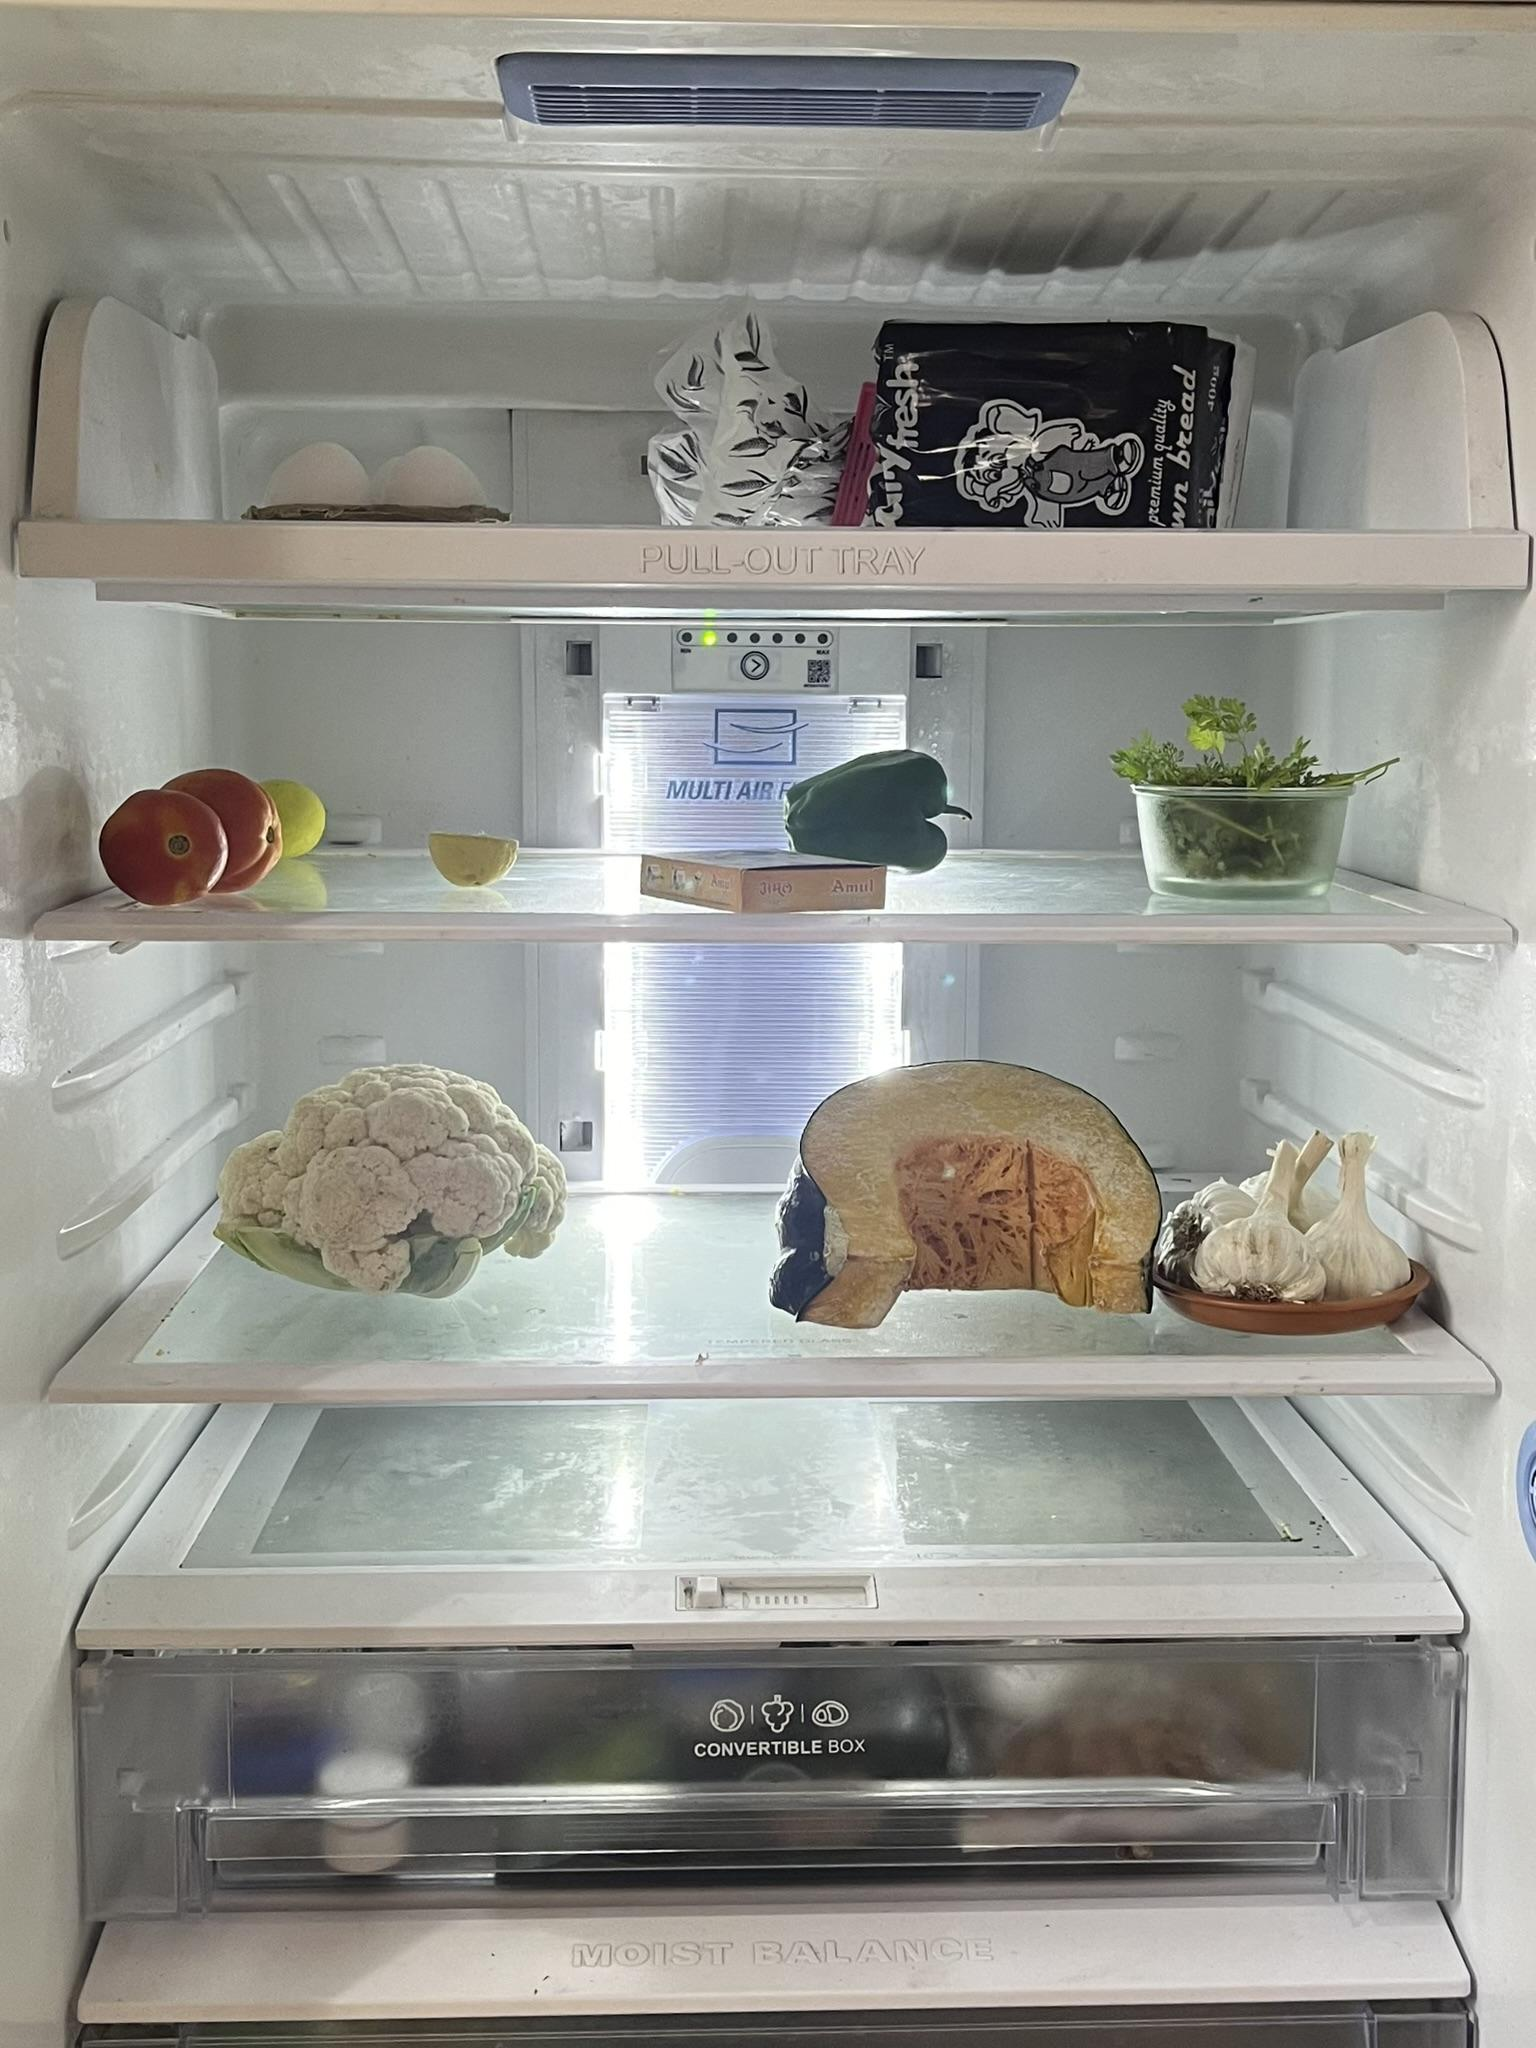bread: (652, 306, 1247, 529)
butter: (639, 847, 884, 911)
capsicum: (787, 748, 960, 872)
cauliflower: (221, 1061, 568, 1290)
coriander: (1131, 666, 1354, 882)
egg: (252, 432, 494, 510)
garlic: (1165, 1101, 1400, 1300)
lemon: (421, 822, 518, 885), (263, 771, 324, 861)
pumpkin: (771, 1047, 1162, 1332)
tomato: (102, 756, 271, 903)
